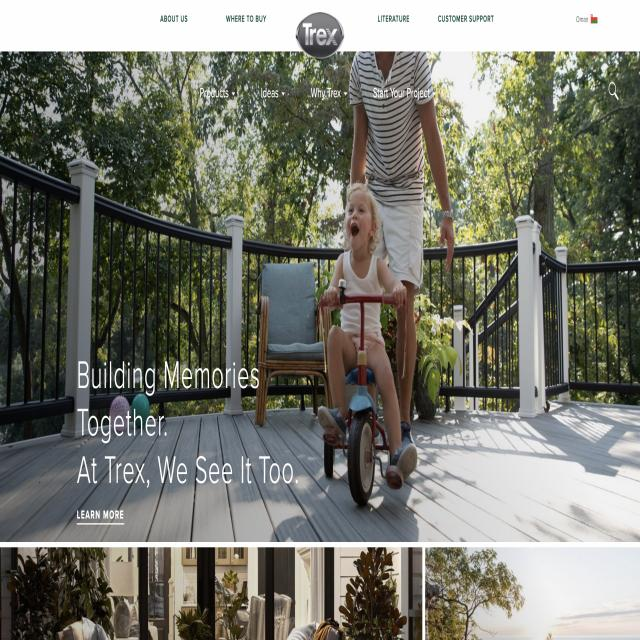Logo: (290, 6, 350, 68)
Navigation: (1, 1, 640, 47)
